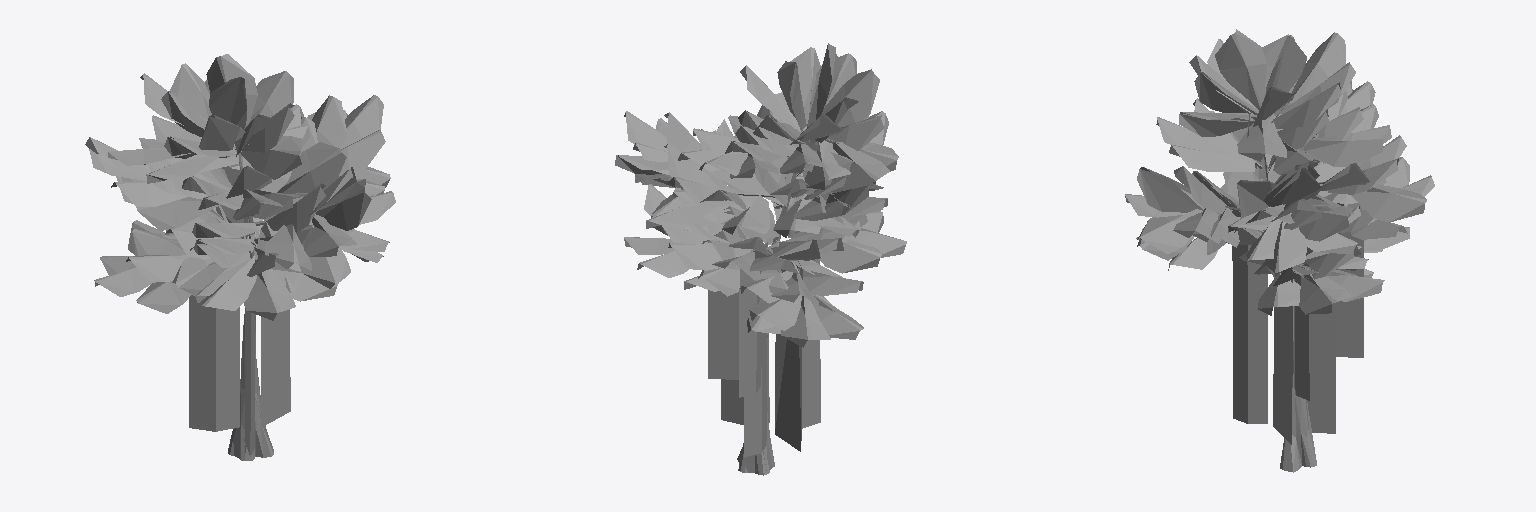
File: Cecropia_blender.obj
3 views of the same model, side by side, from view 1: azimuth 30°, elevation 25°; view 2: azimuth 150°, elevation 25°; view 3: azimuth 270°, elevation 25° (orthographic).
Visible parts, largest first — view 1: Cecropia512, Cecropia256; view 2: Cecropia512, Cecropia256; view 3: Cecropia512, Cecropia256.
Part boxes in pixels (x1,y1,x2,y2): Cecropia512: (85,54,395,460); Cecropia256: (90,64,384,458); Cecropia512: (615,43,906,475); Cecropia256: (617,54,904,472); Cecropia512: (1125,29,1434,472); Cecropia256: (1140,37,1420,466).
Size of the model in its own units: 8.37 by 12.03 by 8.28.